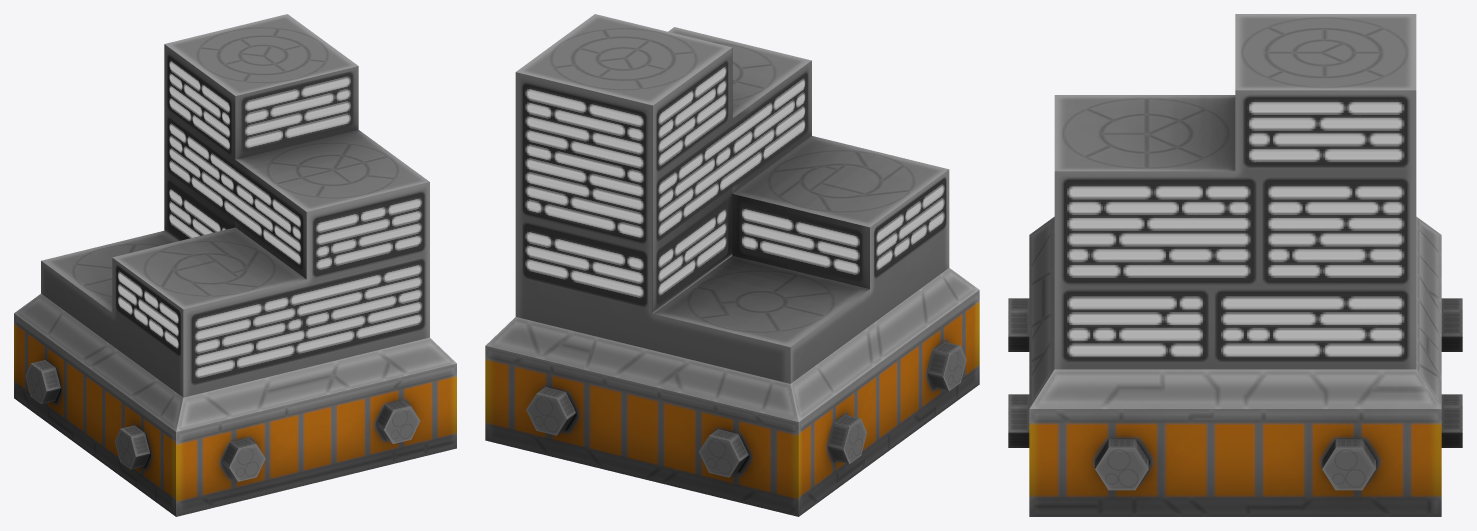
The model's file is Electronics.dae.
3 renders of one model, left to right at view 1: azimuth 30°, elevation 25°; view 2: azimuth 150°, elevation 25°; view 3: azimuth 270°, elevation 25°, orthographic. The views are drawn at different scales.
Visible parts, largest first — view 1: Electronics; view 2: Electronics; view 3: Electronics.
Part boxes in pixels (bbox=[...]): Electronics: bbox=[14, 14, 456, 516]; Electronics: bbox=[485, 14, 979, 516]; Electronics: bbox=[1008, 14, 1462, 516].
Bounding box in the file's own units: 2 × 2.02 × 2.
